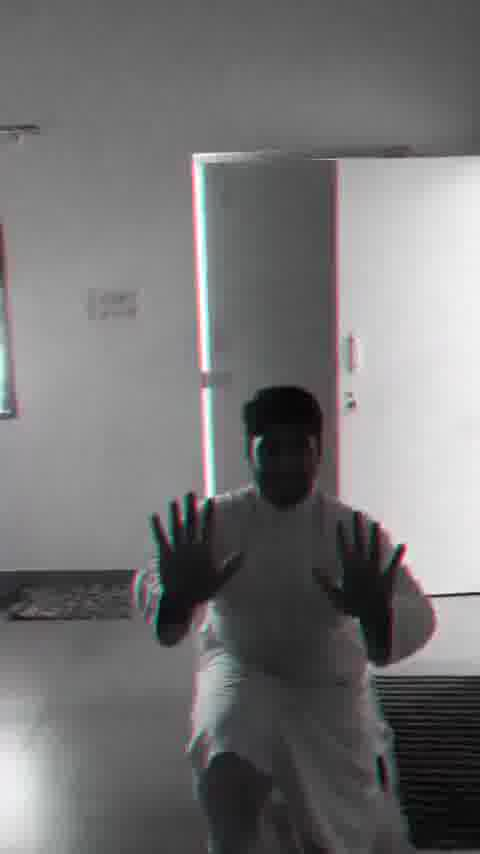duck: (145, 383, 440, 854)
